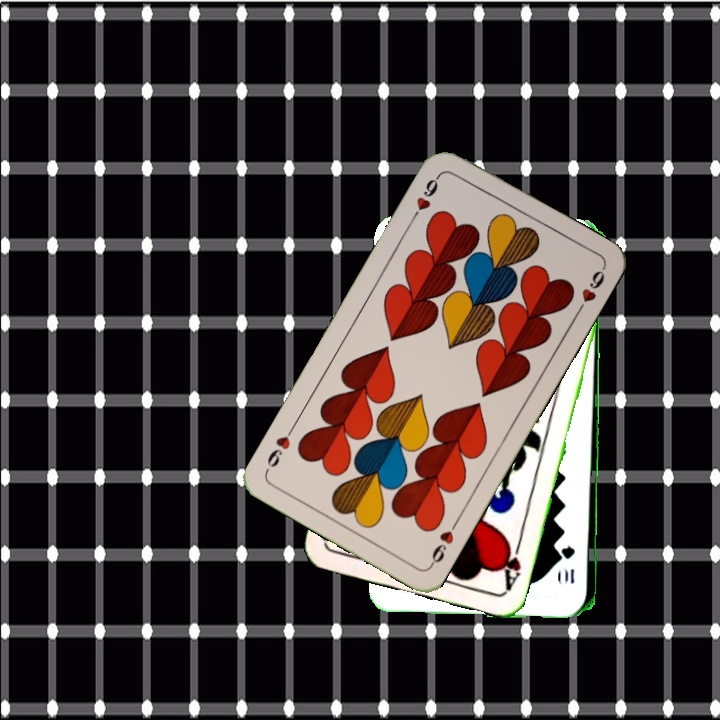G10: (561, 542, 577, 586)
H9: (407, 170, 444, 223), (425, 516, 461, 570)
HA: (496, 534, 525, 593)
